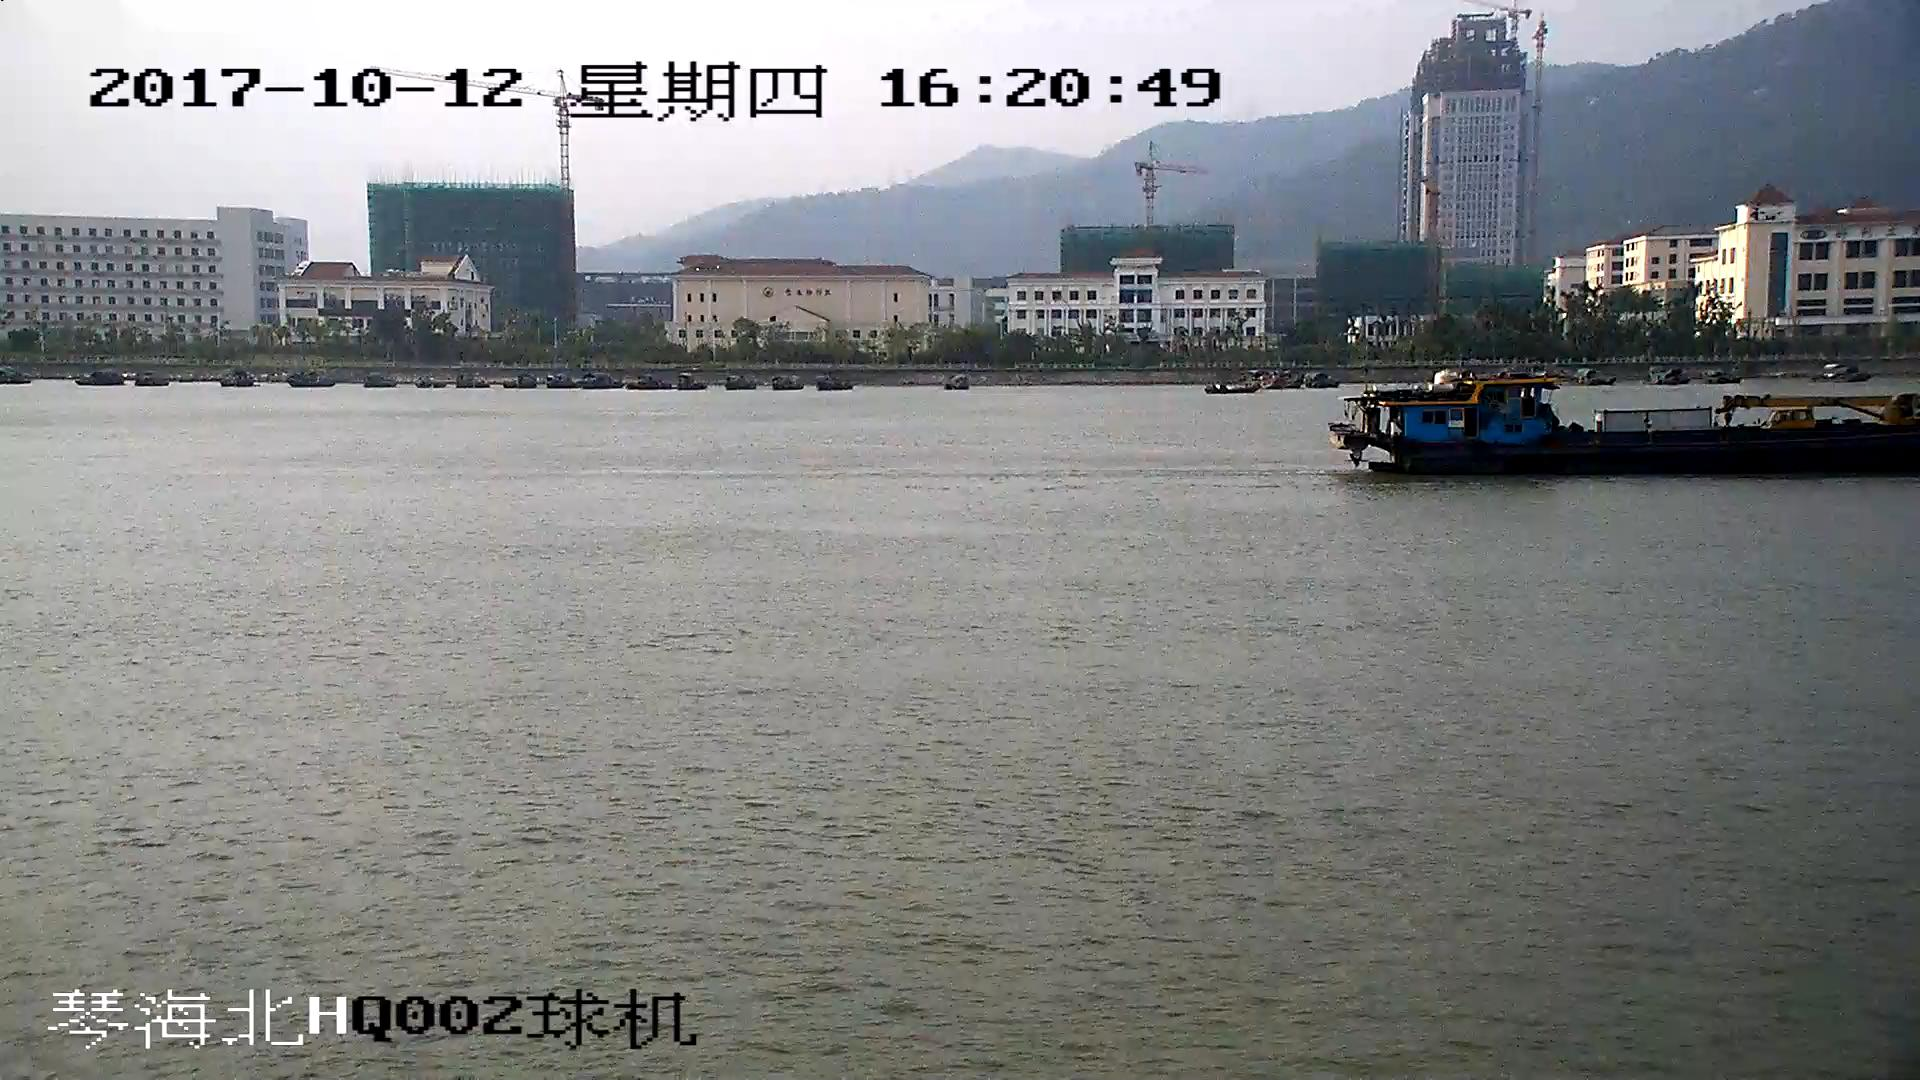fishing boat: (1335, 372, 1920, 477)
